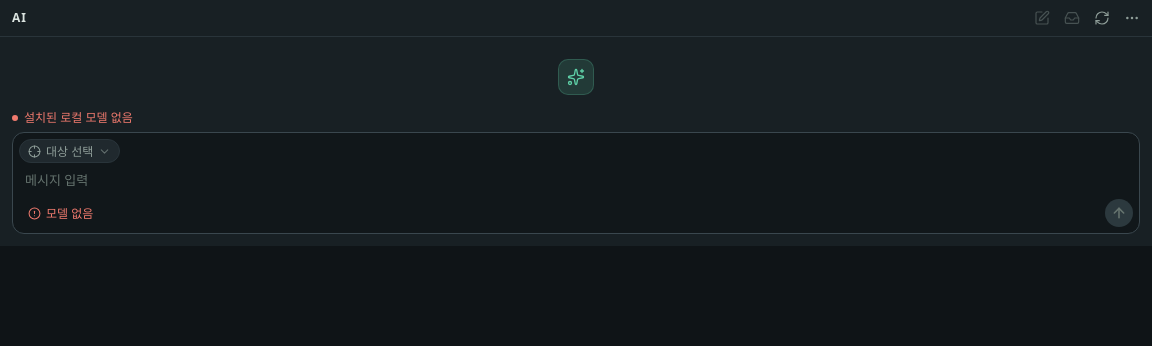
Scenario: opens a CLI card without a model and records 거절 only after a click
Expected: the button named "CLI 제안 가져오기" is disabled, [1058,4,1086,32]
Step 1. Click the button "대상 선택" → (70, 151), box [19,139,120,163]
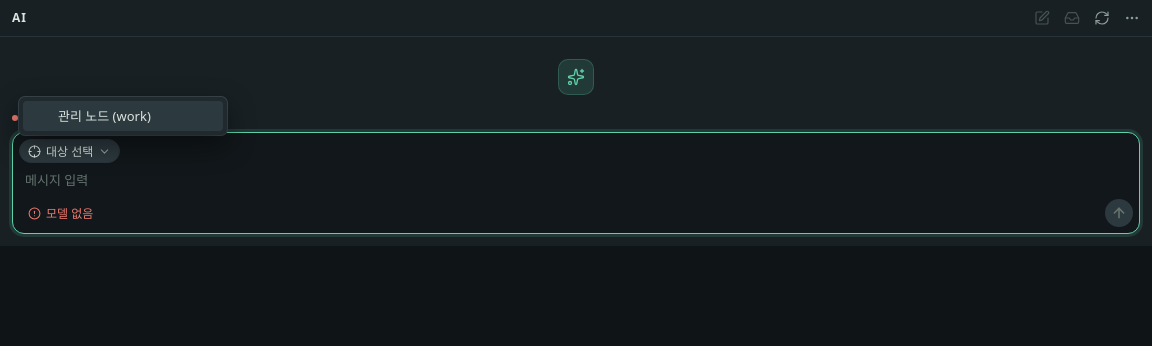
Expected: the menu item "관리 노드 (work)" is shown
Step 2. Click the menu item "관리 노드 (work)" → (123, 116), box [23,101,223,131]
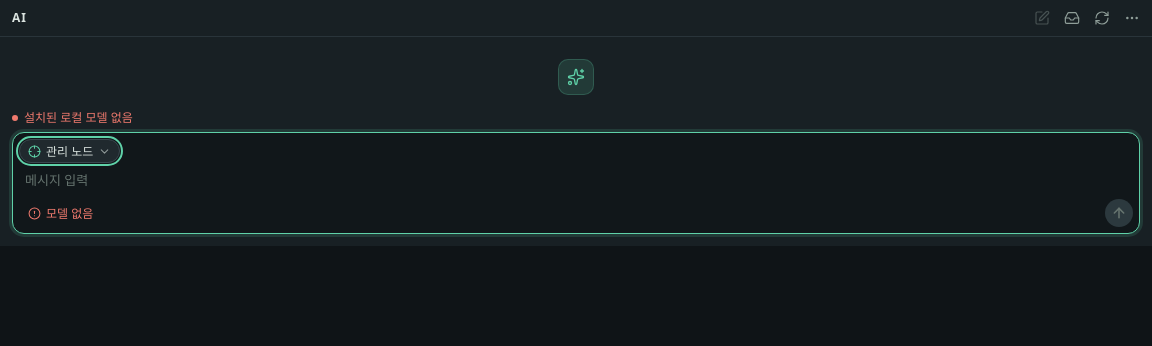
Step 3. Click the button named "CLI 제안 가져오기" → (1072, 18), box [1058,4,1086,32]
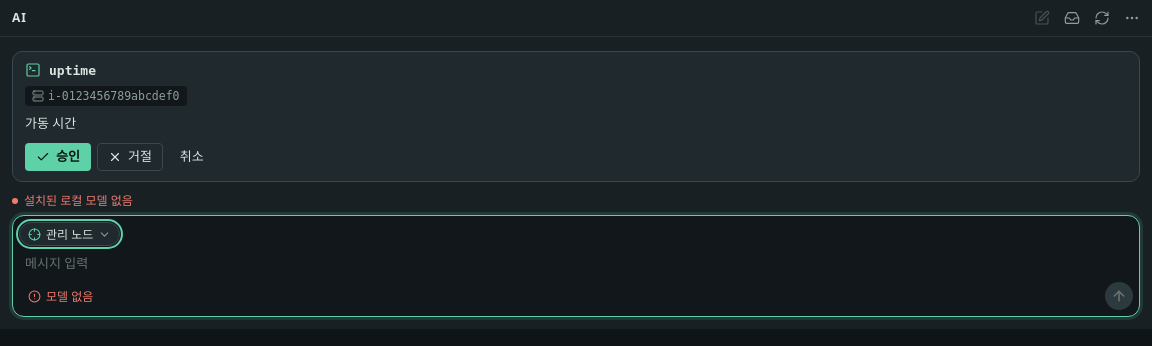
Expected: the element showing "uptime i-0123456789abcdef0 가동 시간 승인 거절 취소" is shown, [12,51,1140,182]
Step 4. Click the button "거절" → (130, 157), box [97,143,163,171]
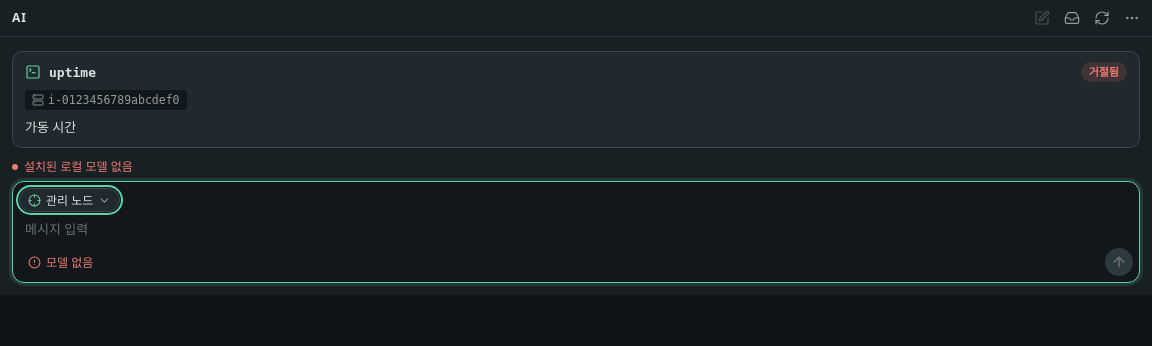
Expected: the message "거절됨" is shown, [1081,62,1127,82]
